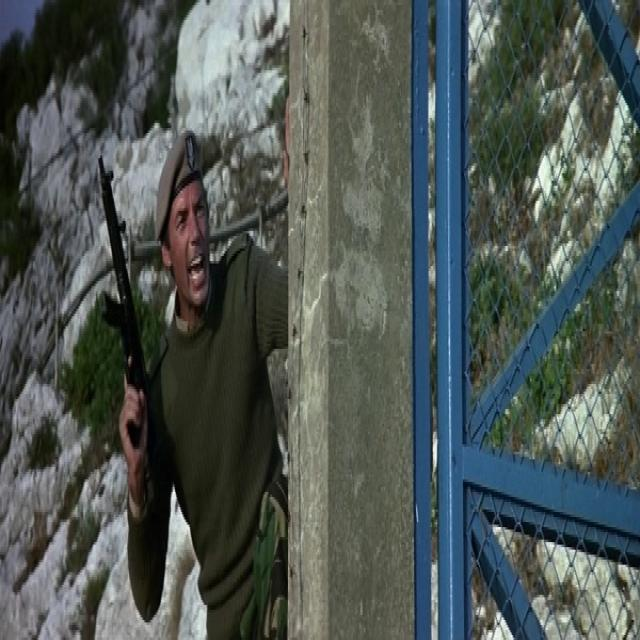rifle: (99, 151, 157, 450)
